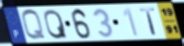1: (122, 7, 139, 37)
3: (92, 7, 114, 39)
6: (70, 7, 92, 40)
Q: (20, 8, 48, 42), (43, 8, 70, 41)
T: (138, 7, 159, 36)
